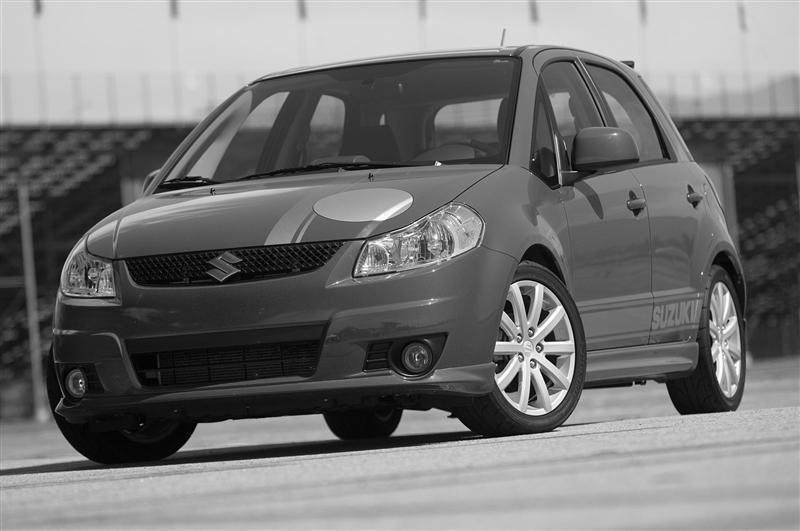car: (41, 31, 753, 468)
